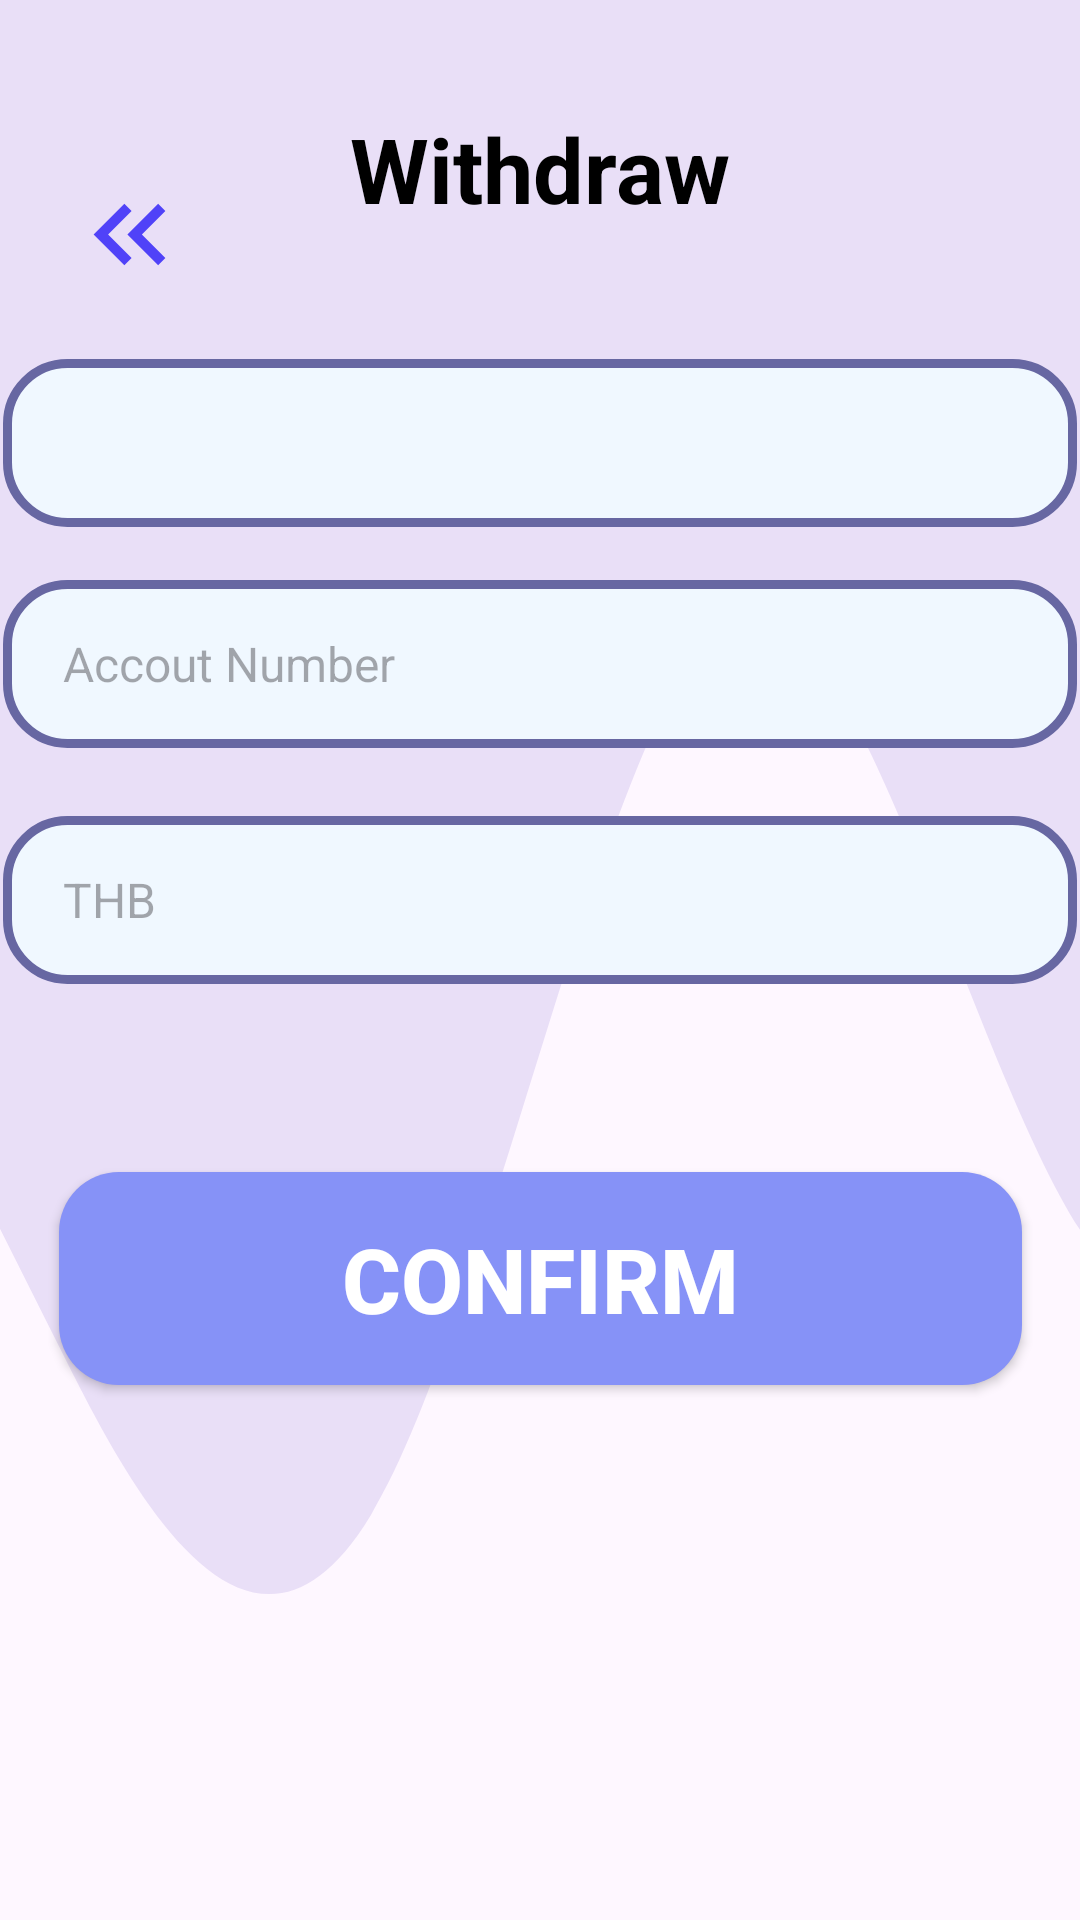

Named icons in this screenshot (1080×1920) and their bounding boxes, BBox(x1, y1, x2, y2):
return left: BBox(94, 204, 165, 265)
